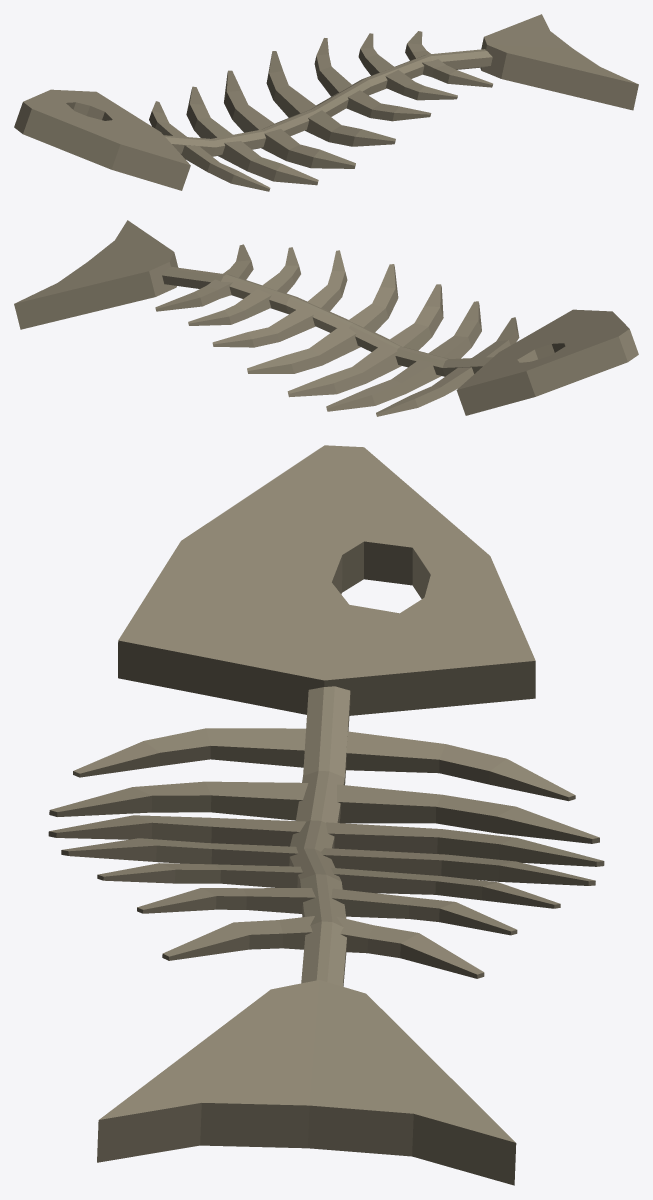
The model's file is Fish Bone.glb.
The picture shows the model from 3 angles, top to bottom: view 1: azimuth 30°, elevation 25°; view 2: azimuth 150°, elevation 25°; view 3: azimuth 270°, elevation 25°; orthographic projection. The views are drawn at different scales.
Visible parts, largest first — view 1: FishBone; view 2: FishBone; view 3: FishBone.
Boxes of the visible parts, x1,y1,x2,y2 form: FishBone: [14, 14, 638, 191]; FishBone: [14, 220, 638, 416]; FishBone: [48, 445, 604, 1185].
Size of the model in its own units: 0.9219 by 0.1568 by 0.3913.
